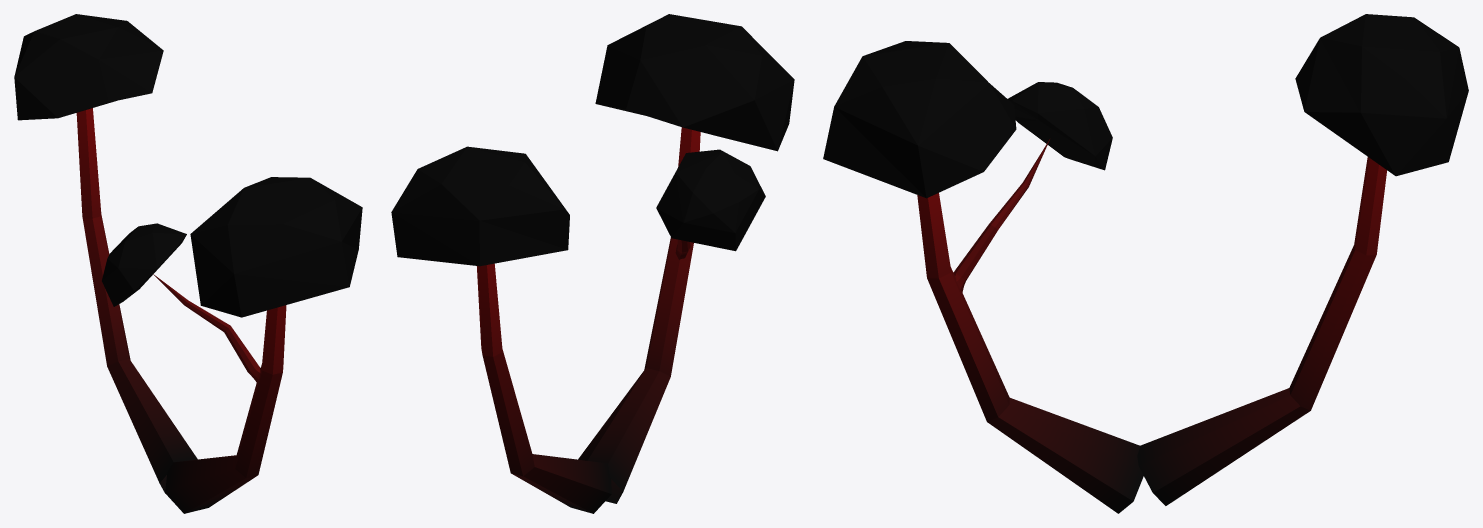
Rendered from FungiBolete02.fbx.
3 renders of one model, left to right at view 1: azimuth 30°, elevation 25°; view 2: azimuth 150°, elevation 25°; view 3: azimuth 270°, elevation 25°, orthographic. The views are drawn at different scales.
Visible parts, largest first — view 1: FungiBolete02; view 2: FungiBolete02; view 3: FungiBolete02.
Part boxes in pixels (box(x1,y1,x2,y2)): FungiBolete02: box(14, 14, 362, 513); FungiBolete02: box(391, 14, 794, 513); FungiBolete02: box(823, 14, 1468, 513).
Size of the model in its own units: 13.87 by 27.55 by 33.95.
